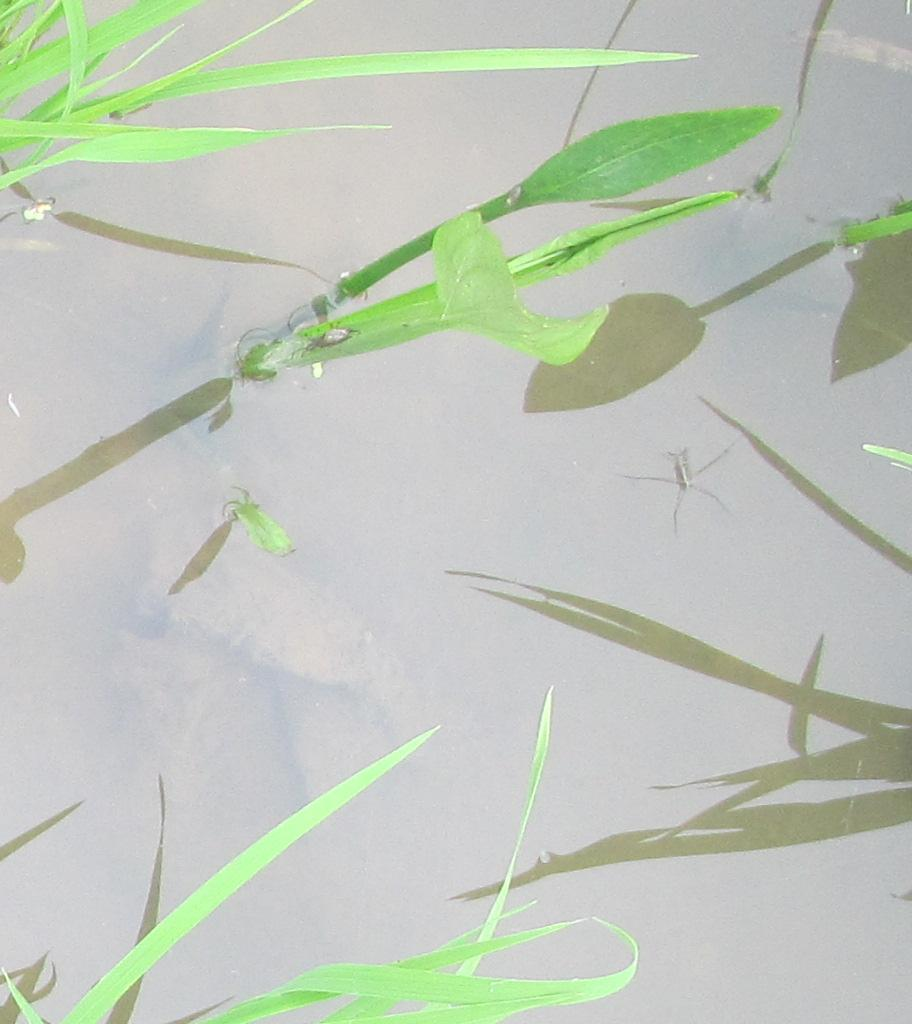Weed: (391, 105, 792, 355)
